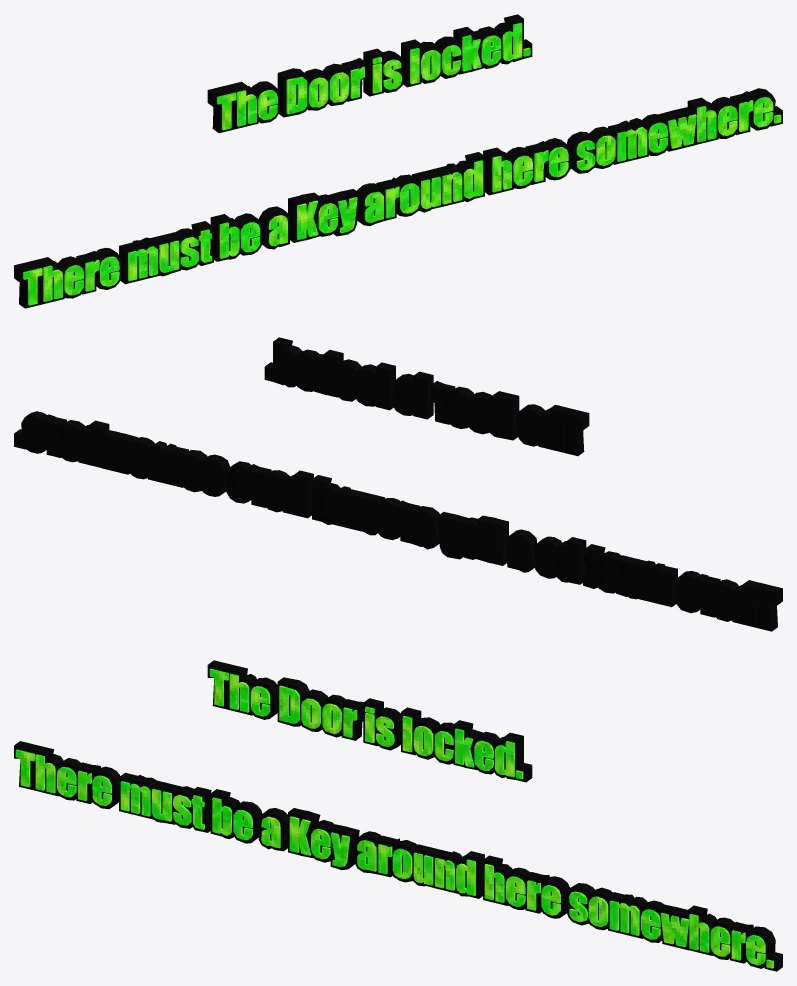
The model's file is hint2.glb.
3 renders of one model, top to bottom at view 1: azimuth 30°, elevation 25°; view 2: azimuth 150°, elevation 25°; view 3: azimuth 330°, elevation 25°, orthographic.
Visible parts, largest first — view 1: Text; view 2: Text; view 3: Text.
Boxes of the visible parts, bbox=[...] form: Text: bbox=[14, 14, 782, 308]; Text: bbox=[14, 337, 782, 631]; Text: bbox=[14, 660, 782, 971].
Size of the model in its own units: 12.47 by 2.71 by 0.231.
2 materials, 1 textured.
